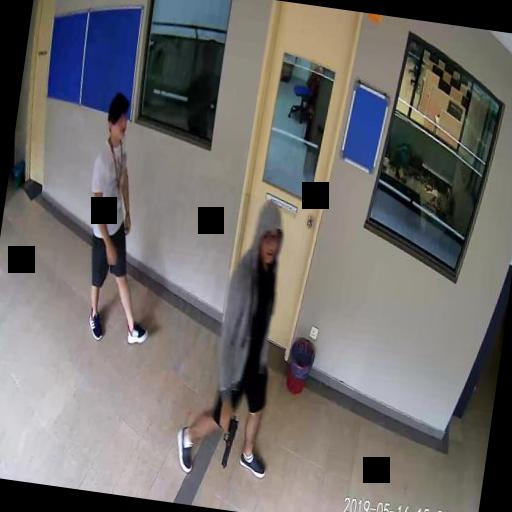Handgun: (214, 410, 238, 468)
